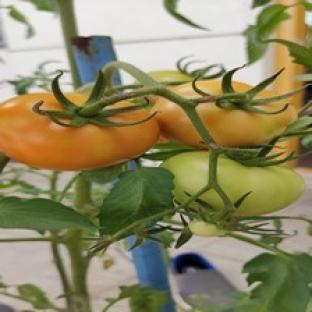Tomato: (0, 94, 160, 169), (218, 156, 305, 215), (197, 101, 296, 147), (189, 219, 225, 236), (148, 70, 193, 83)
